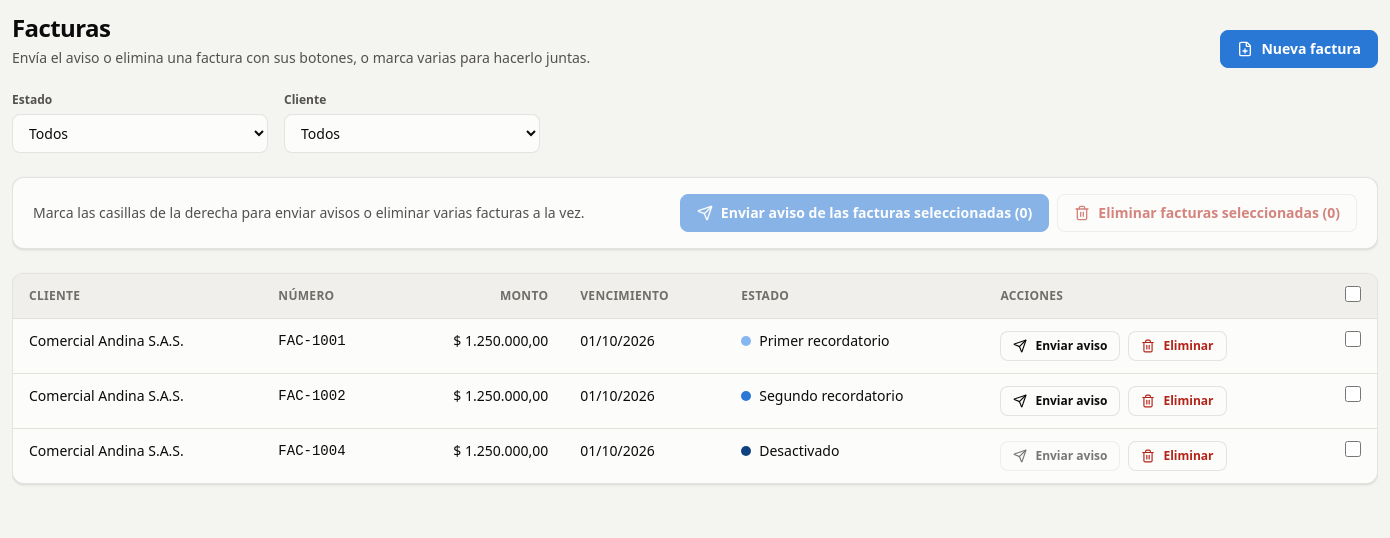
Scenario: FacturasPage: selección de facturas › desde la primera casilla bloquea los avisos individuales y habilita el envío en lote
Click the checkbox named "Seleccionar FAC-1001" at coordinates (1353, 339), box [1345,331,1361,347]
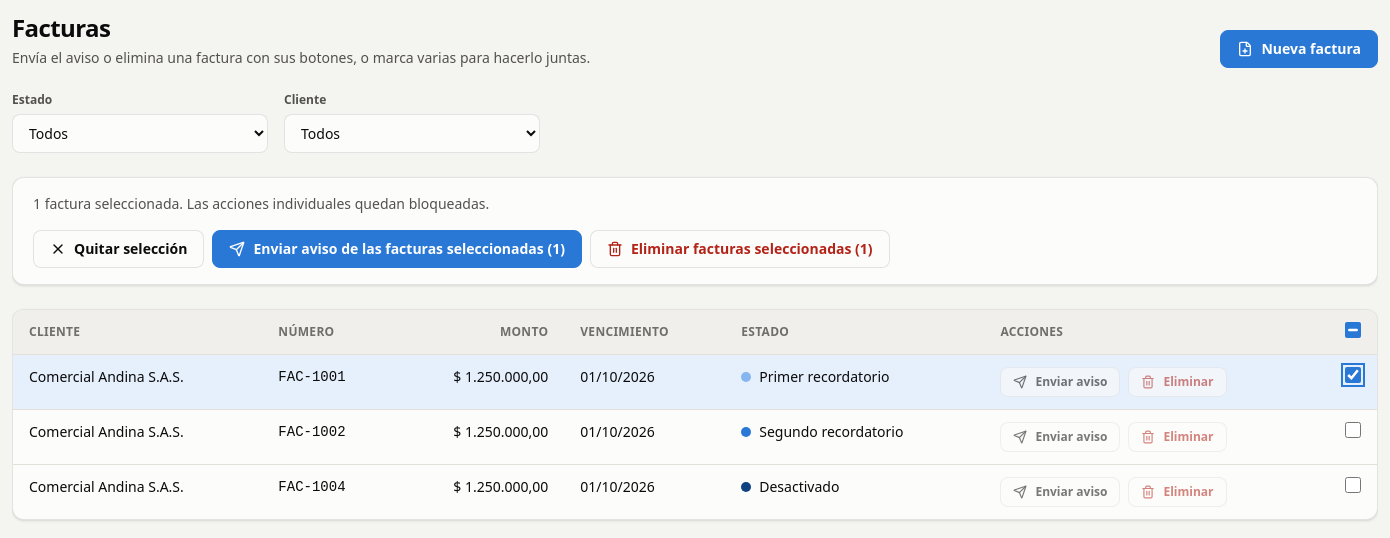
Expected: the button "Enviar aviso de las facturas seleccionadas (1)" is enabled, [212,230,582,268]
Expected: the button "Enviar aviso de las facturas seleccionadas (1)" is shown, [212,230,582,268]
Expected: the button with aria-label "Enviar aviso de FAC-1001" is disabled, [1000,367,1120,397]
